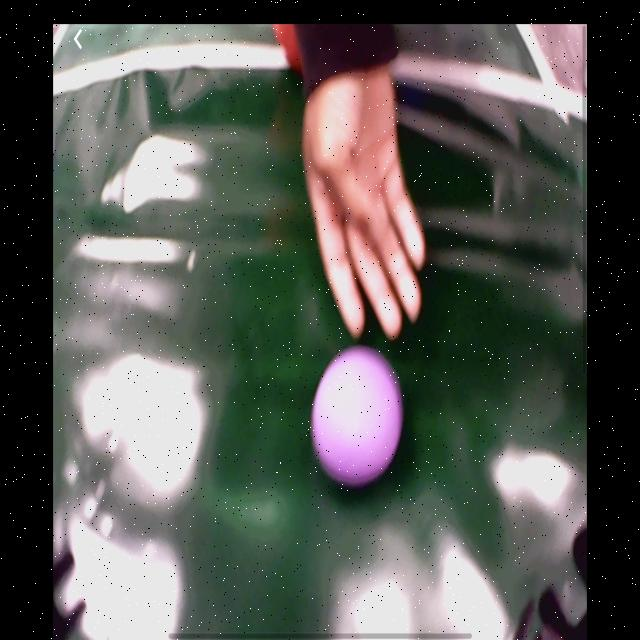ball: (313, 350, 403, 487)
